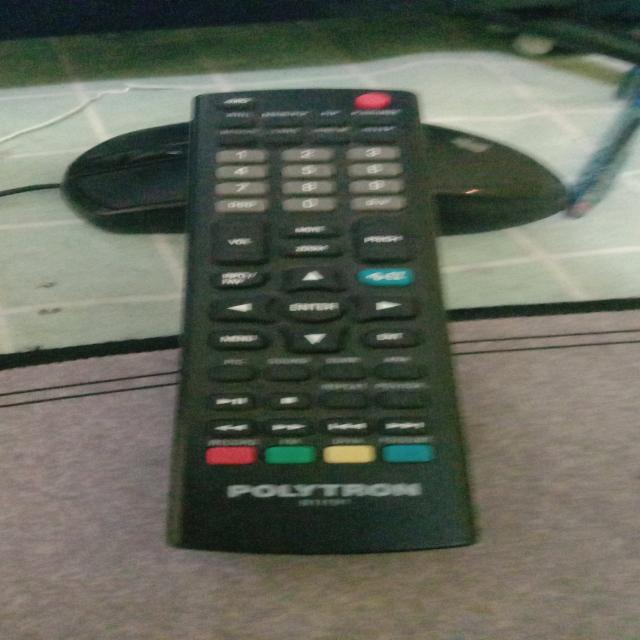remote: (134, 76, 456, 550)
